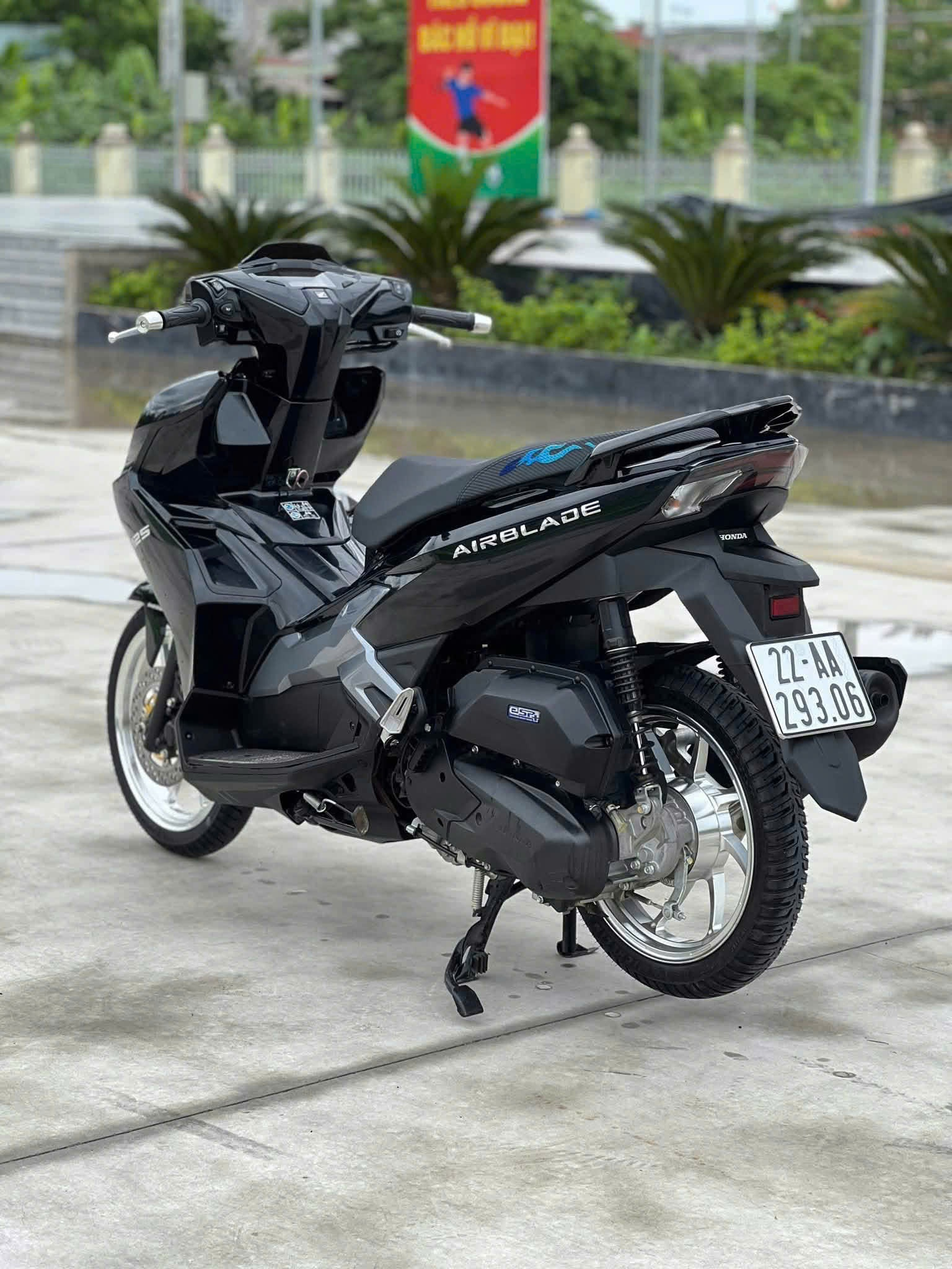Bien-so: (762, 612, 905, 734)
